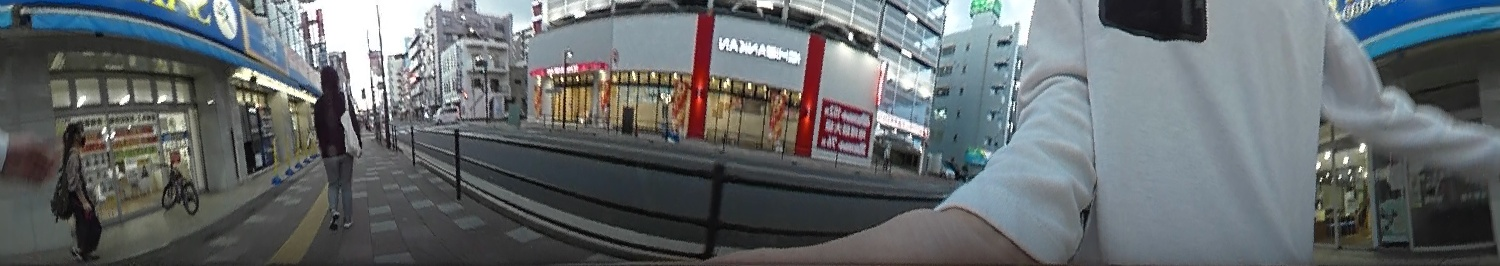difficult_person: (882, 141, 892, 172)
person: (307, 61, 367, 232), (48, 116, 108, 260)
